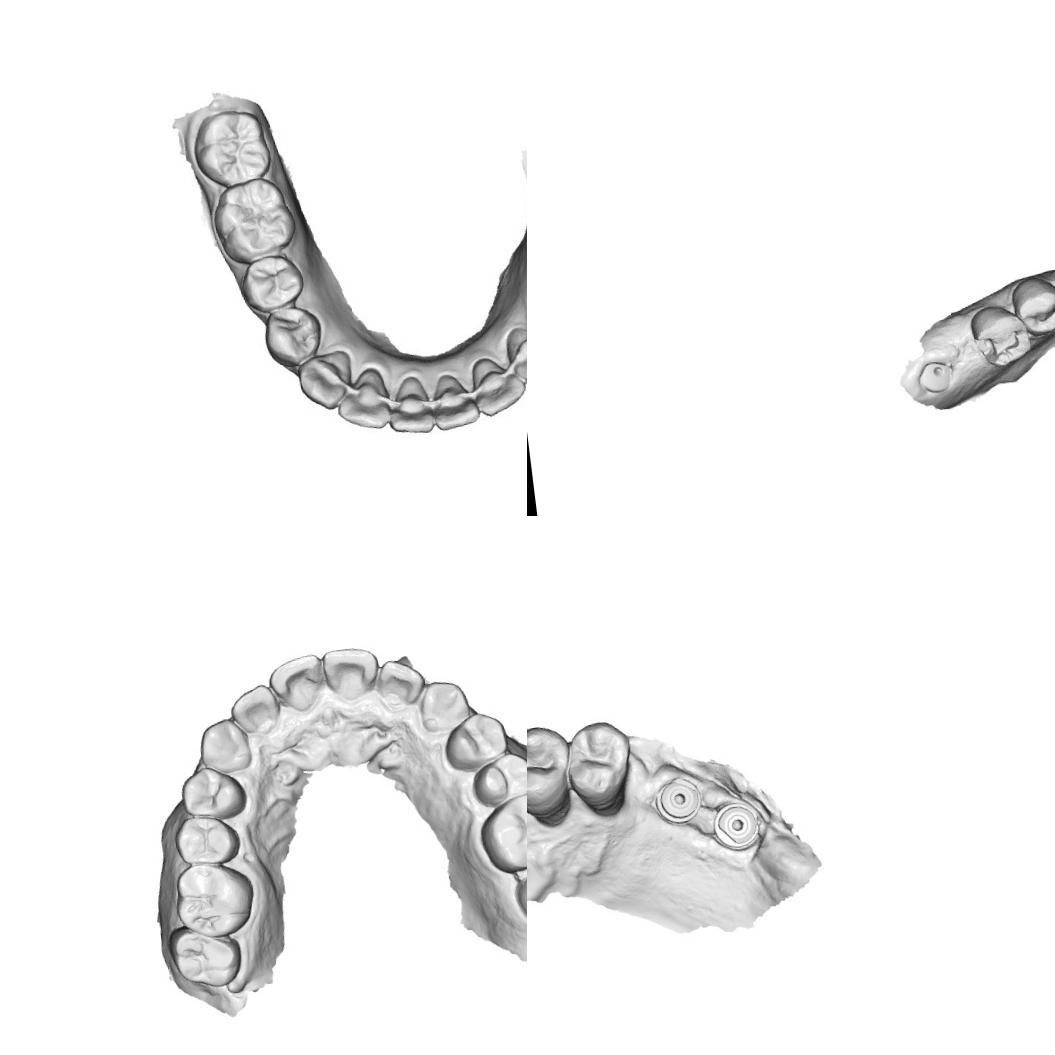canine: (195, 713, 254, 779), (415, 676, 475, 737), (297, 347, 347, 408), (507, 323, 527, 380)
implant: (712, 796, 764, 854), (654, 775, 704, 823), (914, 357, 956, 396)
incisor: (321, 642, 385, 708), (264, 652, 326, 717), (384, 366, 438, 434), (468, 352, 523, 417), (371, 653, 428, 713), (336, 366, 391, 428), (226, 681, 284, 738), (434, 370, 476, 430)
molar: (170, 858, 260, 944), (210, 178, 296, 258), (164, 919, 247, 994), (194, 107, 270, 187), (473, 787, 527, 878), (509, 844, 527, 932)
premolar: (560, 717, 636, 806), (438, 706, 512, 776), (966, 300, 1035, 370), (170, 810, 244, 872), (527, 721, 574, 818), (178, 761, 250, 824), (263, 302, 322, 365), (468, 748, 527, 809), (242, 254, 302, 312), (1008, 271, 1055, 339)
